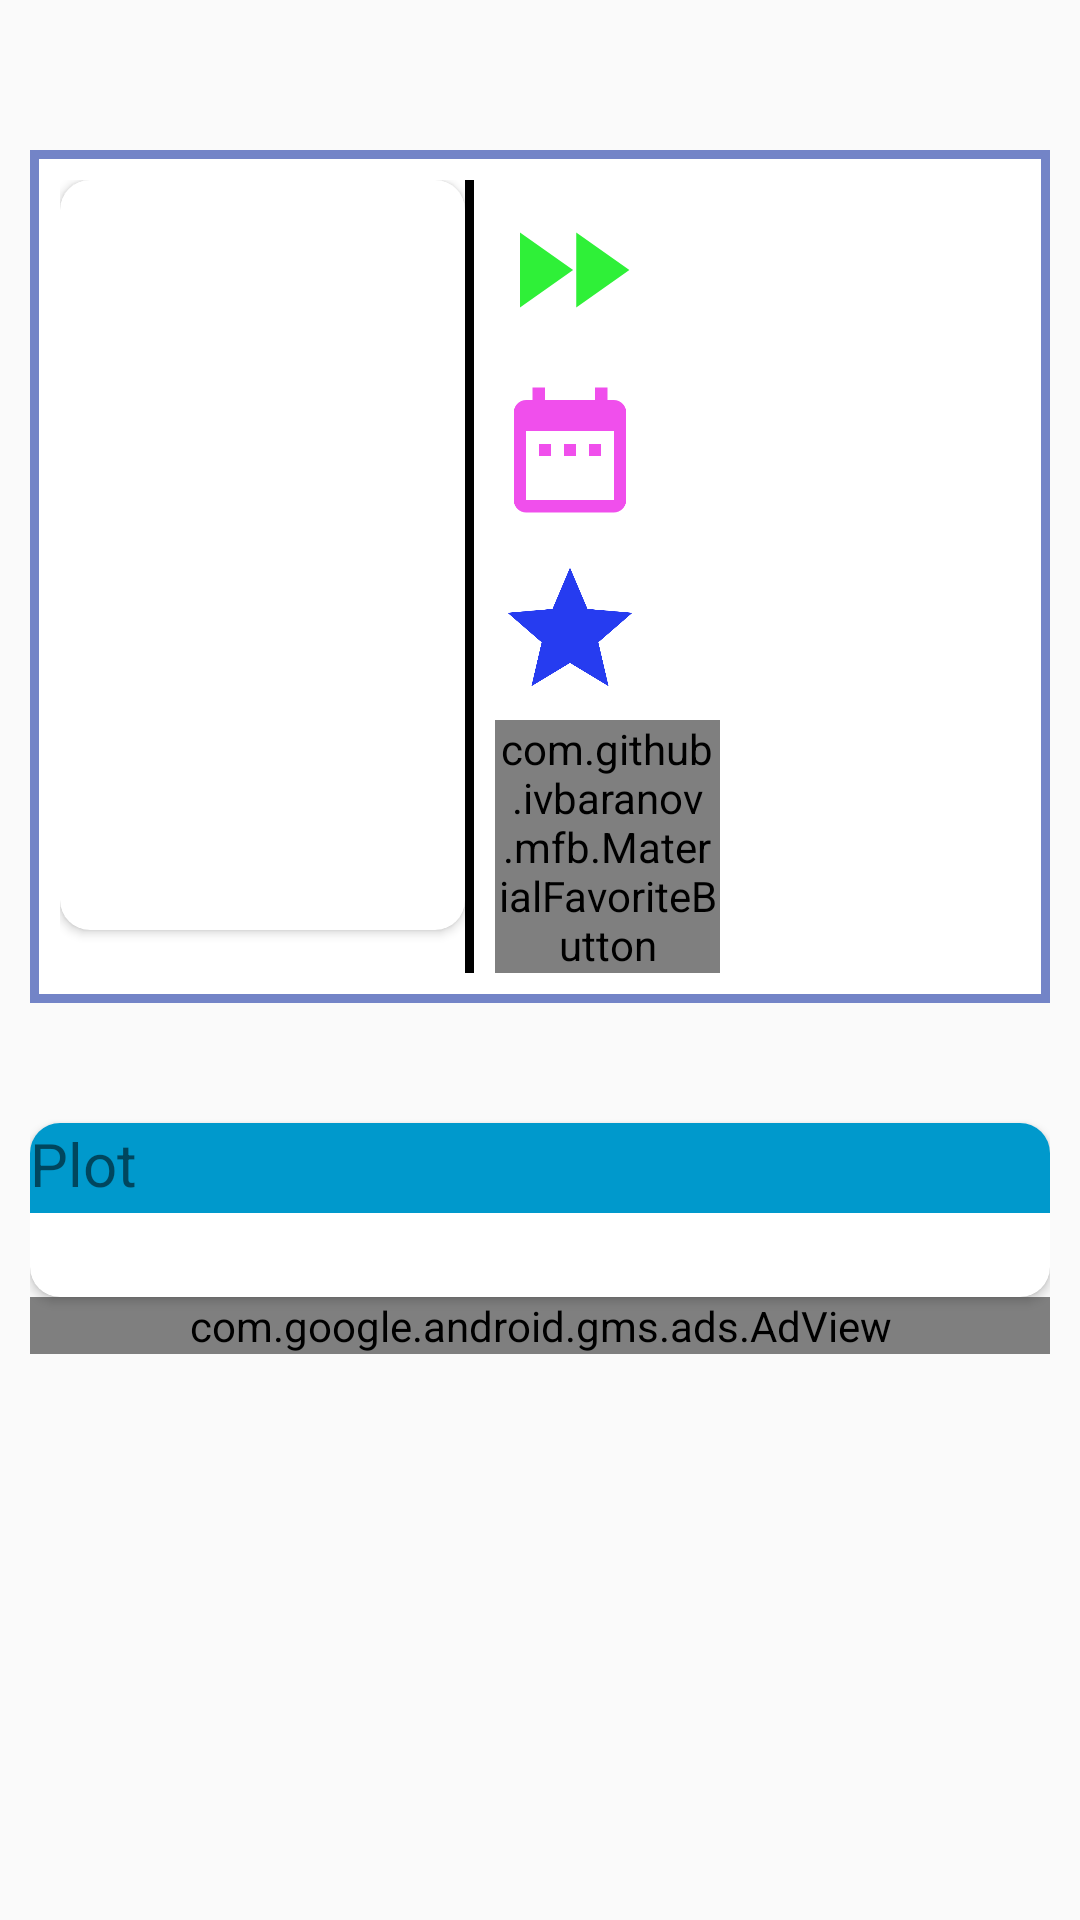

Named icons in this screenshot (1080 x 1920) and their bounding boxes, (left=x1, top=y1, right=x2, bottom=y2):
date: (left=514, top=387, right=626, bottom=513)
fast forward: (left=520, top=232, right=629, bottom=308)
rating: (left=508, top=568, right=632, bottom=686)
